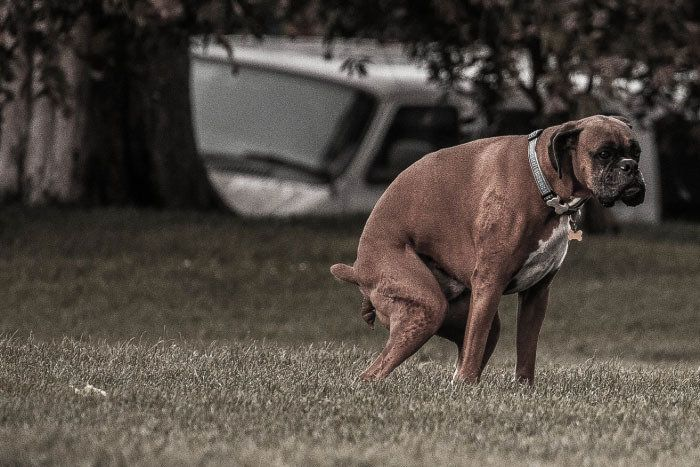dog_pooping: (325, 108, 652, 399)
